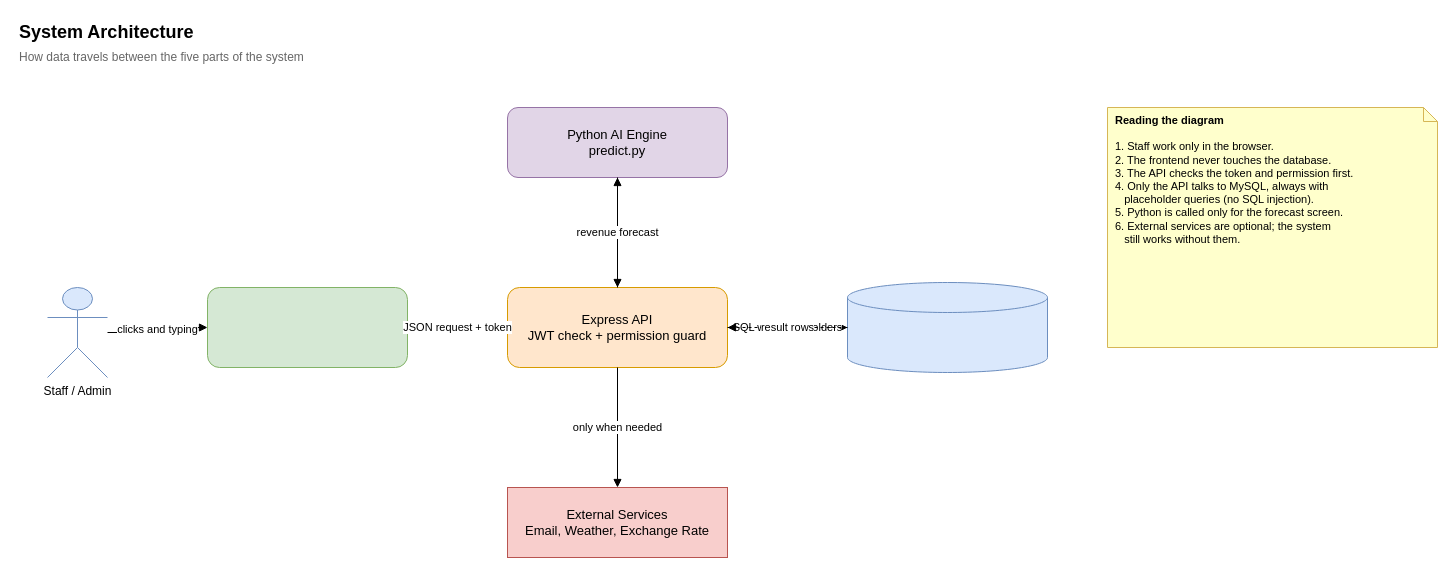
Image size: 1455x575. Some labels were removed from this diagram. The shapes that lost their labels are listed below. From the top down, each one's centre as x and y in pixels, then its label:
At [307,327]: "React Frontend (Vite POS dashboard)".
At [947,327]: "MySQL Database mlu_kitchen_cafe_db".
